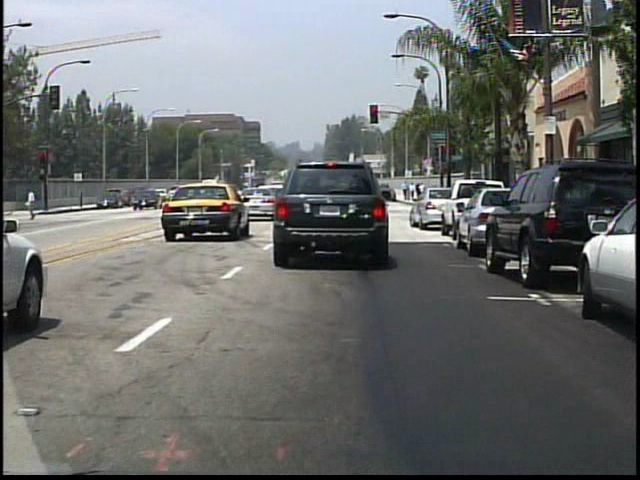person: (424, 179, 444, 214), (27, 187, 41, 223), (419, 180, 428, 204), (410, 181, 418, 203), (402, 180, 410, 201)
